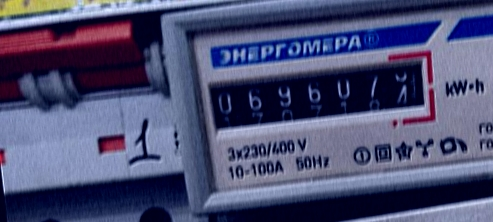0: (213, 89, 233, 115), (332, 73, 350, 100)
4: (390, 82, 409, 107)
6: (302, 78, 322, 103), (243, 86, 262, 111)
7: (362, 72, 380, 100)
9: (272, 82, 291, 108)
screen: (191, 44, 440, 145)
